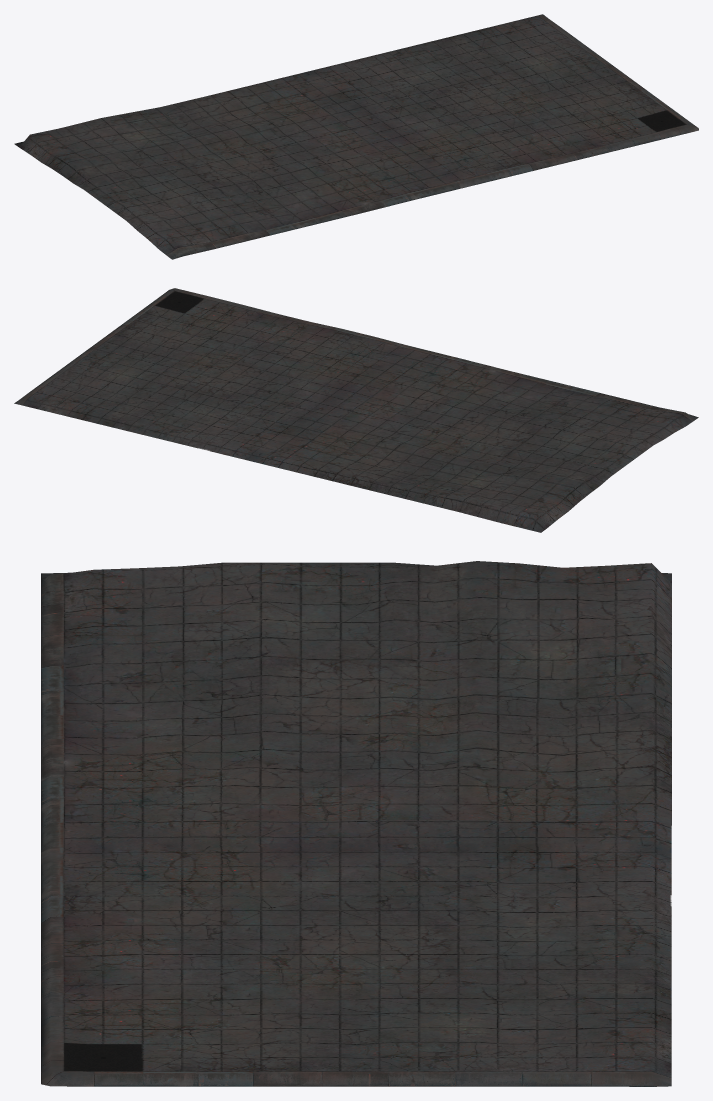
Rendered from Iffrig_Mercantile_Building_Foundation.fbx.
The picture shows the model from 3 angles, top to bottom: view 1: azimuth 30°, elevation 25°; view 2: azimuth 150°, elevation 25°; view 3: azimuth 270°, elevation 25°; orthographic projection. The views are drawn at different scales.
Parts seen in each view (by area): view 1: Parking_Lot_Back5, Parking_Lot_Back, Parking_Lot_Back4, Parking_Lot_Front3, Parking_Lot_Back2, Parking_Lot_Back3, Parking_Lot_Back1, Parking_Lot_Front4, Parking_Lot_Front5, Parking_Lot_Front, Parking_Lot_Front1, Parking_Lot_Front2; view 2: Parking_Lot_Back, Parking_Lot_Back5, Parking_Lot_Front3, Parking_Lot_Back4, Parking_Lot_Back2, Parking_Lot_Front4, Parking_Lot_Front, Parking_Lot_Back3, Parking_Lot_Front5, Parking_Lot_Back1, Parking_Lot_Front1, Parking_Lot_Front2; view 3: Parking_Lot_Back5, Parking_Lot_Back, Parking_Lot_Front3, Parking_Lot_Back4, Parking_Lot_Back2, Parking_Lot_Front4, Parking_Lot_Front, Parking_Lot_Back3, Parking_Lot_Back1, Parking_Lot_Front5, Parking_Lot_Front1, Parking_Lot_Front2.
Boxes of the visible parts, left/top/right/bottom form: Parking_Lot_Back5: left=160, top=72, right=362, bottom=150; Parking_Lot_Back: left=14, top=107, right=213, bottom=183; Parking_Lot_Back4: left=215, top=113, right=414, bottom=189; Parking_Lot_Front3: left=304, top=40, right=495, bottom=112; Parking_Lot_Back2: left=74, top=150, right=266, bottom=220; Parking_Lot_Back3: left=268, top=152, right=460, bottom=224; Parking_Lot_Back1: left=127, top=189, right=312, bottom=259; Parking_Lot_Front4: left=363, top=80, right=548, bottom=151; Parking_Lot_Front5: left=415, top=119, right=594, bottom=188; Parking_Lot_Front: left=437, top=14, right=601, bottom=80; Parking_Lot_Front1: left=497, top=56, right=654, bottom=118; Parking_Lot_Front2: left=549, top=94, right=698, bottom=155; Parking_Lot_Back: left=401, top=452, right=600, bottom=532; Parking_Lot_Back5: left=253, top=415, right=459, bottom=497; Parking_Lot_Front3: left=120, top=382, right=312, bottom=461; Parking_Lot_Back4: left=313, top=376, right=512, bottom=452; Parking_Lot_Back2: left=461, top=413, right=652, bottom=485; Parking_Lot_Front4: left=180, top=344, right=364, bottom=414; Parking_Lot_Front: left=14, top=358, right=178, bottom=429; Parking_Lot_Back3: left=365, top=345, right=558, bottom=413; Parking_Lot_Front5: left=232, top=313, right=407, bottom=376; Parking_Lot_Back1: left=514, top=383, right=698, bottom=445; Parking_Lot_Front1: left=74, top=319, right=231, bottom=382; Parking_Lot_Front2: left=126, top=288, right=274, bottom=343; Parking_Lot_Back5: left=433, top=698, right=671, bottom=852; Parking_Lot_Back: left=434, top=561, right=671, bottom=708; Parking_Lot_Front3: left=433, top=846, right=671, bottom=982; Parking_Lot_Back4: left=222, top=699, right=434, bottom=846; Parking_Lot_Back2: left=222, top=562, right=434, bottom=704; Parking_Lot_Front4: left=223, top=846, right=433, bottom=976; Parking_Lot_Front: left=433, top=976, right=671, bottom=1086; Parking_Lot_Back3: left=41, top=704, right=223, bottom=852; Parking_Lot_Back1: left=41, top=562, right=222, bottom=709; Parking_Lot_Front5: left=41, top=846, right=223, bottom=982; Parking_Lot_Front1: left=223, top=976, right=433, bottom=1086; Parking_Lot_Front2: left=41, top=976, right=223, bottom=1086.
Bounding box in the file's own units: 79.04 × 1.64 × 40.97.
